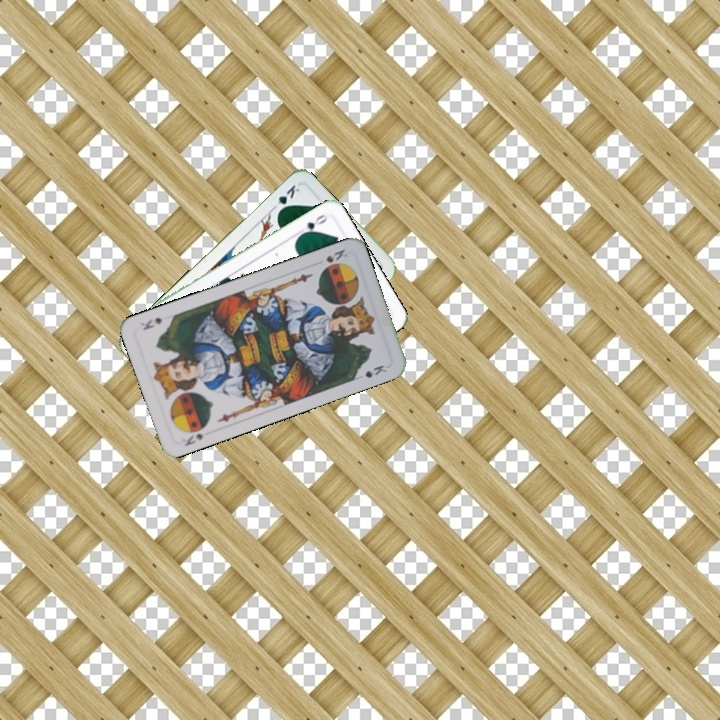GK: (268, 180, 302, 216)
GO: (293, 210, 331, 239)
SK: (318, 245, 350, 271), (178, 429, 207, 449)
